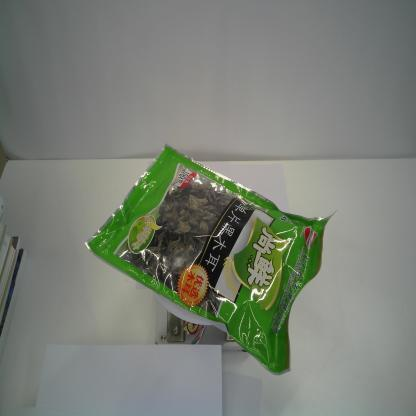Dried Food: (84, 142, 339, 376)
